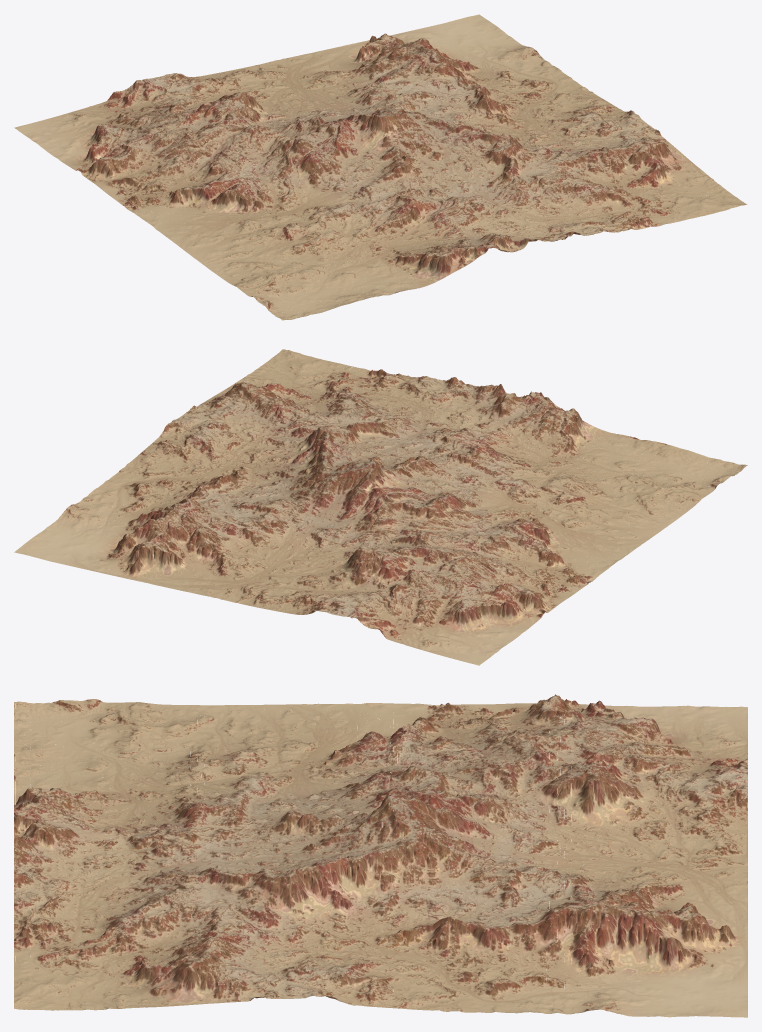
The model's file is mars-terrain.glb.
3 views of the same model, one above another, from view 1: azimuth 30°, elevation 25°; view 2: azimuth 150°, elevation 25°; view 3: azimuth 270°, elevation 25° (orthographic). The views are drawn at different scales.
Visible parts, largest first — view 1: Object_3, Object_2, Object_4; view 2: Object_2, Object_3, Object_4; view 3: Object_3, Object_2, Object_4.
Boxes of the visible parts, x1,y1,x2,y2 form: Object_3: (189, 50, 723, 320); Object_2: (14, 14, 566, 320); Object_4: (78, 50, 747, 317); Object_2: (14, 426, 747, 665); Object_3: (71, 366, 745, 541); Object_4: (72, 349, 735, 615); Object_3: (14, 703, 593, 1012); Object_2: (14, 694, 747, 1017); Object_4: (14, 698, 602, 1014).
Bounding box in the file's own units: 1 × 0.1043 × 1.
Materials: 1 (1 with a texture image).
